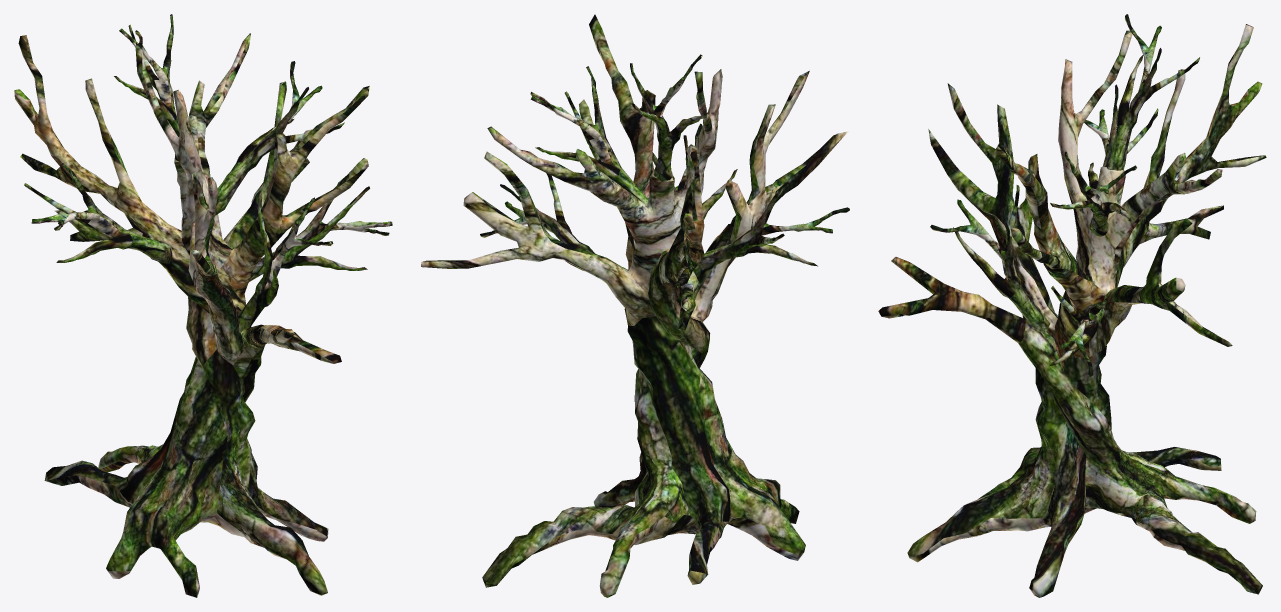
Rendered from tree.obj.
3 views of the same model, side by side, from view 1: azimuth 30°, elevation 25°; view 2: azimuth 150°, elevation 25°; view 3: azimuth 270°, elevation 25° (orthographic). The views are drawn at different scales.
Parts seen in each view (by area): view 1: tree2; view 2: tree2; view 3: tree2.
Part boxes in pixels (x1=…): tree2: x1=14, y1=14, x2=392, y2=597; tree2: x1=421, y1=14, x2=849, y2=597; tree2: x1=878, y1=14, x2=1266, y2=597.
Bounding box in the file's own units: 5.4 × 7.54 × 5.15.
Materials: 1 (1 with a texture image).
